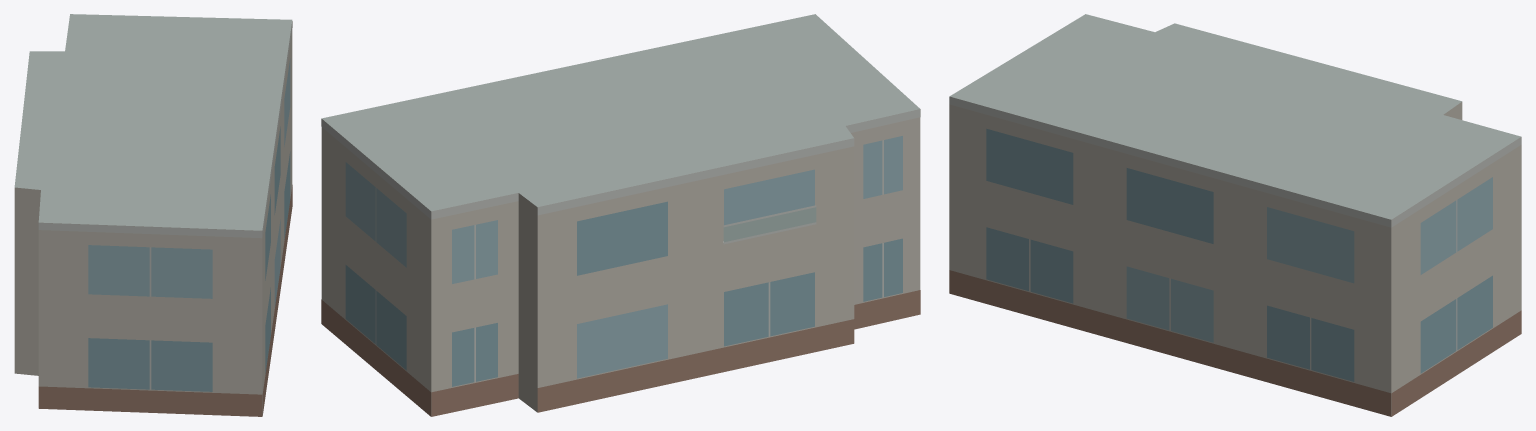
File: survey-upis-33023532.glb
The picture shows the model from 3 angles, left to right: view 1: azimuth 30°, elevation 25°; view 2: azimuth 150°, elevation 25°; view 3: azimuth 270°, elevation 25°; orthographic projection. The views are drawn at different scales.
Parts seen in each view (by area): view 1: survey-upis-33023532.tmp; view 2: survey-upis-33023532.tmp; view 3: survey-upis-33023532.tmp.
Part boxes in pixels (bbox=[...]): survey-upis-33023532.tmp: bbox=[14, 14, 292, 416]; survey-upis-33023532.tmp: bbox=[321, 14, 920, 416]; survey-upis-33023532.tmp: bbox=[949, 14, 1521, 416].
Bounding box in the file's own units: 13.67 × 6.1 × 16.06.
